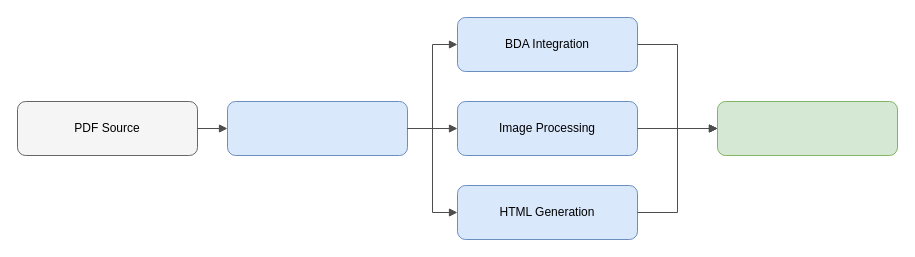
Some shapes in this 915 by 257 pixel diagram are drawn without their labels. The centre of each missing label's shape, as x and y in pixels:
HTML Output: (x=807, y=128)
PDF2HTML: (x=317, y=128)
